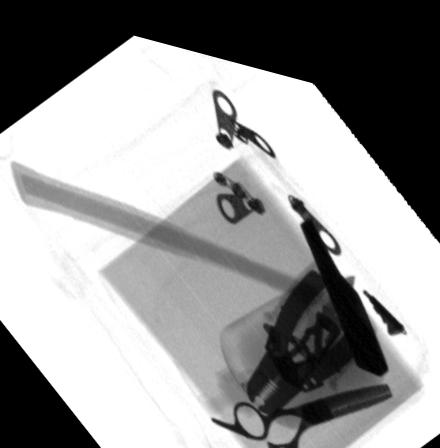Hammer: (8, 160, 389, 357)
Knife: (269, 254, 356, 376)
Pliers: (244, 243, 376, 402)
Scissors: (208, 362, 393, 448)
